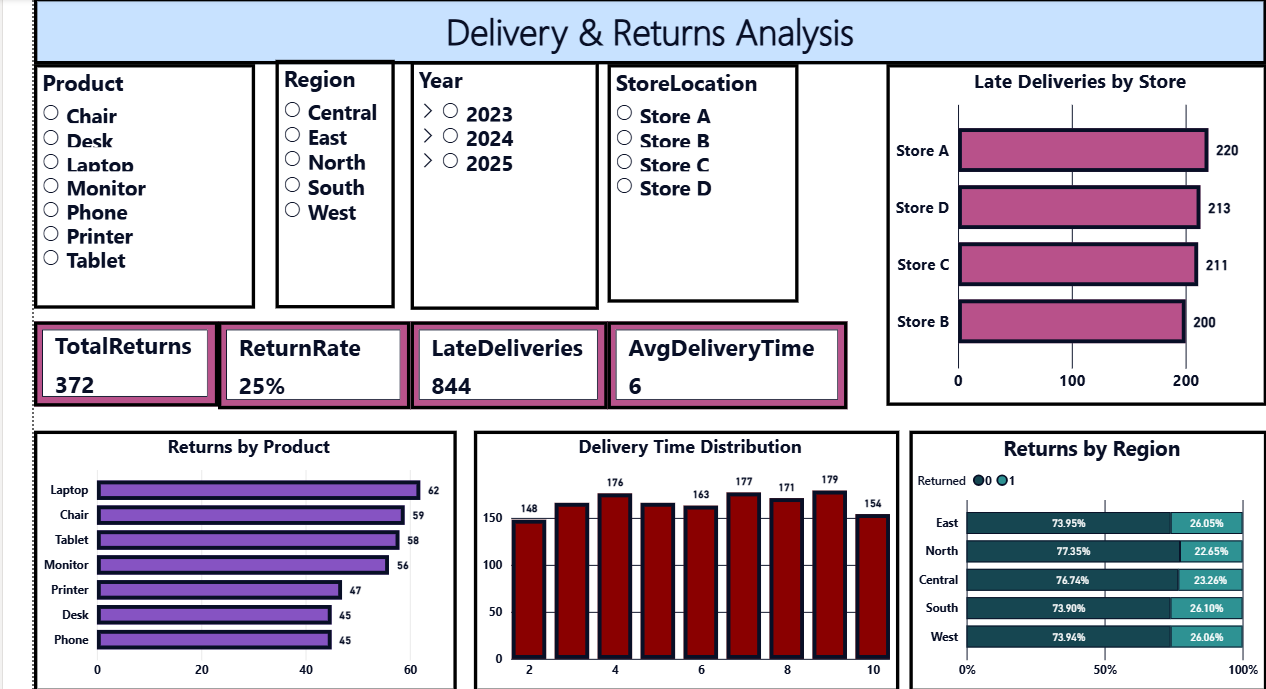

The dashboard page shown, as its layout file describes it:
{"tool":"powerbi","page":{"name":"Delivery & returns","canvas":[1280,720],"ordinal":3},"visuals":[{"type":"cardVisual","fields":{"Data":["Sheet1.TotalReturns"]},"box":[0,335.7,191,88],"z":0},{"type":"cardVisual","fields":{"Data":["Sheet1.ReturnRate"]},"box":[191,335.7,199.9,91],"z":1000},{"type":"textbox","title":"Delivery & Returns Analysis","box":[0,0,1280.2,68.6],"z":2000},{"type":"cardVisual","fields":{"Data":["Sheet1.AvgDeliveryTime"]},"box":[595.5,335.8,249.3,91],"z":3000},{"type":"cardVisual","fields":{"Data":["Sheet1.LateDeliveries"]},"box":[391.1,335.8,204.5,91],"z":4000},{"type":"clusteredBarChart","title":"Returns by Product","fields":{"Y":["Sum(Sheet1.Returned)"],"Category":["Sheet1.Product"]},"box":[0,449.1,438.7,271.6],"z":5000},{"type":"clusteredColumnChart","title":"Delivery Time Distribution","fields":{"Category":["Sheet1.DeliveryDays"],"Y":["CountNonNull(Sheet1.OrderID)"]},"box":[456.6,449.1,441.6,271.6],"z":6000},{"type":"hundredPercentStackedBarChart","title":"Returns by Region","fields":{"Category":["Sheet1.Region"],"Series":["Sheet1.Returned"],"Y":["CountNonNull(Sheet1.OrderID)"]},"box":[908.6,449.1,371.5,271.6],"z":7000},{"type":"listSlicer","fields":{"Values":["Sheet1.Product"]},"box":[0,68.6,229.8,253.6],"z":8000},{"type":"listSlicer","fields":{"Values":["Sheet1.Region"]},"box":[250.7,64.2,123.8,258.1],"z":9000},{"type":"listSlicer","fields":{"Values":["Sheet1.Date.Variation.Date Hierarchy.Year","Sheet1.Date.Variation.Date Hierarchy.Quarter","Sheet1.Date.Variation.Date Hierarchy.Month","Sheet1.Date.Variation.Date Hierarchy.Day"]},"box":[390.9,65.6,195.5,258.1],"z":10000},{"type":"listSlicer","fields":{"Values":["Sheet1.StoreLocation"]},"box":[595.3,68.6,198.4,247.7],"z":11000},{"type":"clusteredBarChart","title":"Late Deliveries by Store","fields":{"Y":["Sheet1.LateDelivery"],"Category":["Sheet1.StoreLocation"]},"box":[884.8,68.6,395.4,355.1],"z":12000}]}

Visuals, with their boxes in screenshot pixels (x1, y1, x2, y2):
cardVisual - Sheet1.TotalReturns: box(26, 322, 213, 408)
cardVisual - Sheet1.ReturnRate: box(213, 322, 409, 411)
"Delivery & Returns Analysis" textbox: box(26, 0, 1265, 61)
cardVisual - Sheet1.AvgDeliveryTime: box(609, 322, 853, 411)
cardVisual - Sheet1.LateDeliveries: box(409, 322, 609, 411)
"Returns by Product" clusteredBarChart: box(26, 433, 456, 688)
"Delivery Time Distribution" clusteredColumnChart: box(473, 433, 905, 688)
"Returns by Region" hundredPercentStackedBarChart: box(915, 433, 1265, 688)
listSlicer - Sheet1.Product: box(26, 61, 251, 309)
listSlicer - Sheet1.Region: box(272, 56, 393, 309)
listSlicer - Sheet1.Date.Variation.Date Hierarchy.Year x Sheet1.Date.Variation.Date Hierarchy.Quarter: box(409, 58, 600, 310)
listSlicer - Sheet1.StoreLocation: box(609, 61, 803, 303)
"Late Deliveries by Store" clusteredBarChart: box(892, 61, 1265, 408)
